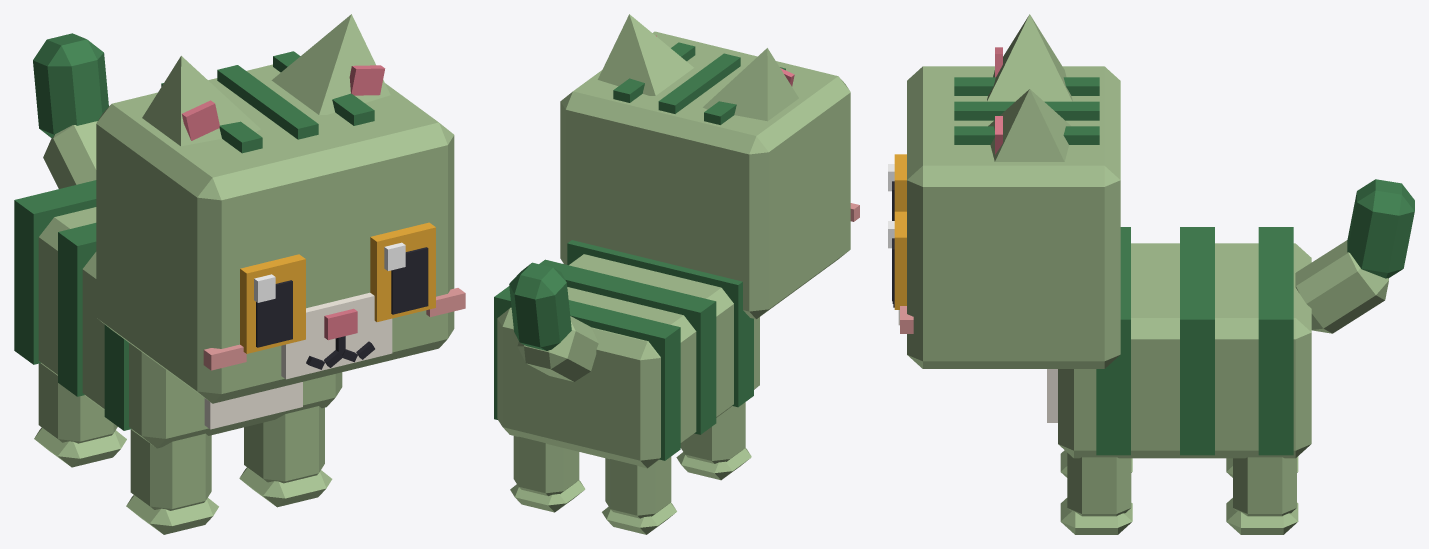
The model's file is CatCafe_Cat_Fern.glb.
3 views of the same model, side by side, from view 1: azimuth 30°, elevation 25°; view 2: azimuth 150°, elevation 25°; view 3: azimuth 270°, elevation 25° (orthographic). The views are drawn at different scales.
Visible parts, largest first — view 1: CatCafe_Cat_Fern_Head, CatCafe_Cat_Fern_Body, CatCafe_Cat_Fern_Tail, CatCafe_Cat_Fern_LegF2, CatCafe_Cat_Fern_LegF1, CatCafe_Cat_Fern_EarL, CatCafe_Cat_Fern_Eye2, CatCafe_Cat_Fern_Eye1, CatCafe_Cat_Fern_LegB2, CatCafe_Cat_Fern_EarR; view 2: CatCafe_Cat_Fern_Head, CatCafe_Cat_Fern_Body, CatCafe_Cat_Fern_Tail, CatCafe_Cat_Fern_LegB2, CatCafe_Cat_Fern_LegB1, CatCafe_Cat_Fern_EarL, CatCafe_Cat_Fern_EarR, CatCafe_Cat_Fern_LegF2; view 3: CatCafe_Cat_Fern_Head, CatCafe_Cat_Fern_Body, CatCafe_Cat_Fern_Tail, CatCafe_Cat_Fern_LegF1, CatCafe_Cat_Fern_LegB1, CatCafe_Cat_Fern_EarR, CatCafe_Cat_Fern_EarL, CatCafe_Cat_Fern_Eye1, CatCafe_Cat_Fern_Eye2.
Part boxes in pixels (left/top/right/bottom): CatCafe_Cat_Fern_Head: left=96, top=51, right=465, bottom=403; CatCafe_Cat_Fern_Body: left=14, top=180, right=342, bottom=448; CatCafe_Cat_Fern_Tail: left=33, top=33, right=108, bottom=188; CatCafe_Cat_Fern_LegF2: left=126, top=429, right=218, bottom=534; CatCafe_Cat_Fern_LegF1: left=239, top=406, right=332, bottom=507; CatCafe_Cat_Fern_EarL: left=271, top=14, right=390, bottom=115; CatCafe_Cat_Fern_Eye2: left=240, top=254, right=305, bottom=353; CatCafe_Cat_Fern_Eye1: left=370, top=222, right=435, bottom=321; CatCafe_Cat_Fern_LegB2: left=34, top=363, right=126, bottom=467; CatCafe_Cat_Fern_EarR: left=142, top=56, right=260, bottom=146; CatCafe_Cat_Fern_Head: left=560, top=31, right=859, bottom=319; CatCafe_Cat_Fern_Body: left=494, top=240, right=759, bottom=468; CatCafe_Cat_Fern_Tail: left=509, top=262, right=598, bottom=381; CatCafe_Cat_Fern_LegB2: left=602, top=456, right=676, bottom=534; CatCafe_Cat_Fern_LegB1: left=510, top=436, right=585, bottom=512; CatCafe_Cat_Fern_EarL: left=597, top=14, right=693, bottom=95; CatCafe_Cat_Fern_EarR: left=703, top=48, right=798, bottom=121; CatCafe_Cat_Fern_LegF2: left=676, top=402, right=751, bottom=480; CatCafe_Cat_Fern_Head: left=892, top=66, right=1120, bottom=368; CatCafe_Cat_Fern_Body: left=1047, top=227, right=1311, bottom=458; CatCafe_Cat_Fern_Tail: left=1295, top=179, right=1414, bottom=333; CatCafe_Cat_Fern_LegF1: left=1060, top=453, right=1132, bottom=534; CatCafe_Cat_Fern_LegB1: left=1226, top=457, right=1298, bottom=534; CatCafe_Cat_Fern_EarR: left=987, top=14, right=1072, bottom=101; CatCafe_Cat_Fern_EarL: left=988, top=89, right=1070, bottom=161; CatCafe_Cat_Fern_Eye1: left=888, top=211, right=906, bottom=309; CatCafe_Cat_Fern_Eye2: left=888, top=154, right=906, bottom=220.
Size of the model in its own units: 1 by 1.86 by 1.97.
Materials: 1 (1 with a texture image).
